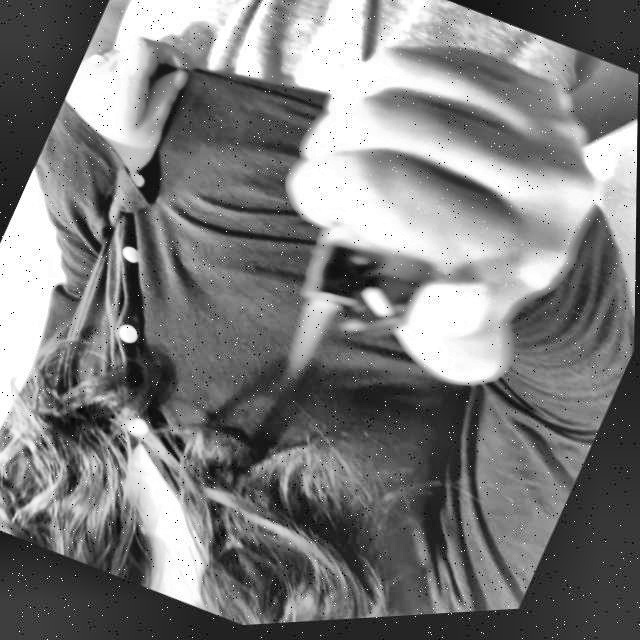Fire: (274, 295, 343, 392)
